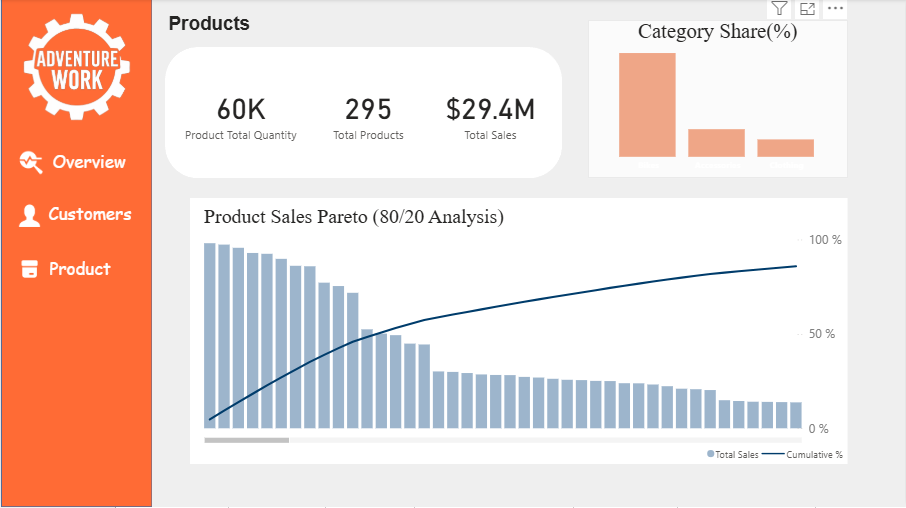

The dashboard page shown, as its layout file describes it:
{"tool":"powerbi","page":{"name":"Products","canvas":[1280,720],"ordinal":2},"visuals":[{"type":"group","id":"g1","title":"navigate","box":[0,0,214.4,720.2],"z":0},{"type":"shape","box":[0,0,214.4,720.2],"z":0,"group":"g1"},{"type":"textbox","box":[232.4,15.4,148.7,42.7],"z":1000},{"type":"textbox","box":[67.9,208.2,134.2,46.9],"z":1000,"group":"g2"},{"type":"image","box":[0,0,214.4,193.1],"z":2000,"group":"g1"},{"type":"shape","box":[233,68.1,562.8,186.1],"z":2000},{"type":"card","fields":{"Values":["dimProducts.Product Total Quantity"]},"box":[255.7,104.4,169.5,113.5],"z":3000},{"type":"textbox","box":[63.8,360.1,134.2,47.5],"z":3000,"group":"g1"},{"type":"card","fields":{"Values":["Count(dimProducts.ProductName)"]},"box":[441.8,104.4,157.4,113.5],"z":4000},{"type":"image","box":[16.4,356.8,47.5,50.7],"z":4000,"group":"g1"},{"type":"card","fields":{"Values":["factSales.Total Sales"]},"box":[615.8,104.4,157.4,113.5],"z":5000},{"type":"textbox","box":[62.9,281.7,135.9,50.1],"z":5000,"group":"g1"},{"type":"lineClusteredColumnComboChart","title":"Product Sales Pareto (80/20 Analysis)","fields":{"Y":["factSales.Total Sales"],"Y2":["dimProducts.Cumulative %"],"Category":["dimProducts.ProductName"]},"box":[267.8,281.4,932,376.7],"z":6000},{"type":"image","box":[16.4,281.5,47.5,50.7],"z":6000,"group":"g1"},{"type":"columnChart","title":"Category Share(%)","fields":{"Category":["dimProducts.CategoryName"],"Y":["factSales.Category Share Log"]},"box":[832.2,30.3,367.7,223.9],"z":7000},{"type":"image","box":[20.4,206.7,47.5,50.7],"z":7000,"group":"g2"},{"type":"actionButton","box":[0,208.8,214.5,52.9],"z":8000},{"type":"group","id":"g2","title":"Group 1","box":[20.4,206.7,181.7,50.7],"z":8001,"group":"g1"},{"type":"actionButton","box":[0,278.9,214.5,52.9],"z":9000},{"type":"actionButton","box":[0,356.1,214.5,52.9],"z":10000}]}

Visuals, with their boxes on the page's 1280x720 design canvas (x1, y1, x2, y2). These are canvas units, not pixel positions in the 906x508 screenshot, which may show the page scaled, cropped or inside an application window:
"navigate" group: region(0, 0, 214, 720)
shape: region(0, 0, 214, 720)
textbox: region(232, 15, 381, 58)
textbox: region(68, 208, 202, 255)
image: region(0, 0, 214, 193)
shape: region(233, 68, 796, 254)
card - dimProducts.Product Total Quantity: region(256, 104, 425, 218)
textbox: region(64, 360, 198, 408)
card - Count(dimProducts.ProductName): region(442, 104, 599, 218)
image: region(16, 357, 64, 408)
card - factSales.Total Sales: region(616, 104, 773, 218)
textbox: region(63, 282, 199, 332)
"Product Sales Pareto (80/20 Analysis)" lineClusteredColumnComboChart: region(268, 281, 1200, 658)
image: region(16, 282, 64, 332)
"Category Share(%)" columnChart: region(832, 30, 1200, 254)
image: region(20, 207, 68, 257)
actionButton: region(0, 209, 214, 262)
"Group 1" group: region(20, 207, 202, 257)
actionButton: region(0, 279, 214, 332)
actionButton: region(0, 356, 214, 409)
